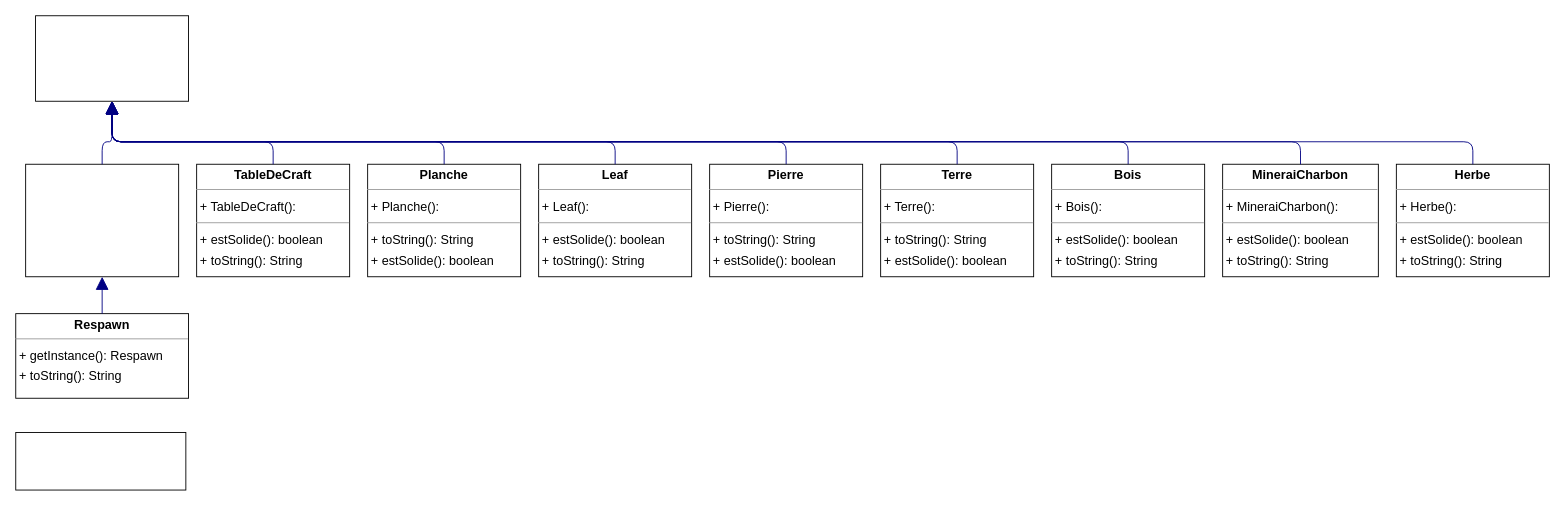
This 1565x506 diagram has some shape labels left out. The shapes that lost their labels are listed below. From the top down, each one's centre as x and y in pixels, then its label:
(x=112, y=58): Bloc + Bloc(): + estSolide(): boolean
(x=102, y=220): Air + Air(): + estSolide(): boolean + toString(): String
(x=100, y=461): BlocException + BlocException(String):
